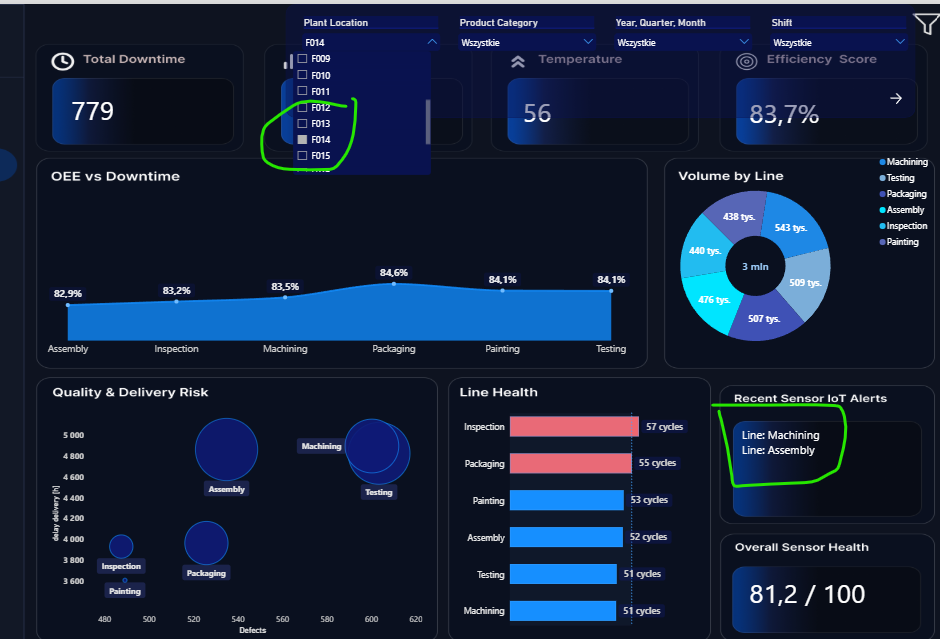

Layout of this report page (visuals, bound fields, positions):
{"tool":"powerbi","page":{"name":"Devices Overview","canvas":[1920,1080],"ordinal":2},"visuals":[{"type":"cardVisual","fields":{"Data":["MIARY.Avg_Vibration"]},"box":[810,127.5,297.5,102.5],"z":0},{"type":"cardVisual","fields":{"Data":["MIARY.Avg_OEE"]},"box":[1570,132.5,242.5,92.5],"z":1000},{"type":"cardVisual","fields":{"Data":["MIARY.Avg_Sensor_Health"]},"box":[1570,927.5,282.5,105],"z":2000},{"type":"areaChart","fields":{"Category":["Dim_Production_Lines.production_line"],"Y":["MIARY.Avg_OEE"],"Y2":["MIARY.Total_Downtime_Hours"]},"box":[358,256,1090,352],"z":3000},{"type":"clusteredBarChart","fields":{"Category":["Dim_Production_Lines.production_line"],"Y":["MIARY.Avg_RUL"]},"box":[1088,660,434,392],"z":4000},{"type":"scatterChart","fields":{"Series":["Dim_Production_Lines.production_line"],"Size":["Sum(Fact_IndustryRisk.machine_downtime_min)"],"X":["Sum(Fact_IndustryRisk.defect_rate_pct)"],"Y":["Sum(Fact_IndustryRisk.delivery_delay_hours)"]},"box":[412,662,638,408],"z":5000},{"type":"donutChart","fields":{"Category":["Fact_IndustryRisk.production_line"],"Y":["Sum(Fact_IndustryRisk.production_output)"]},"box":[1380,237.5,522.5,405],"z":6000},{"type":"actionButton","box":[1852,0,68,60],"z":7000},{"type":"cardVisual","fields":{"Data":["MIARY.Sensor_Alert_Message"]},"box":[1557.5,687.5,295,182.5],"z":8000},{"type":"cardVisual","fields":{"Data":["MIARY.Total_Downtime_Hours"]},"box":[440,112.5,307.5,125],"z":9000},{"type":"cardVisual","fields":{"Data":["MIARY.Avg_Temp"]},"box":[1192.5,125,237.5,105],"z":11000},{"type":"actionButton","box":[32.5,137.5,242.5,92.5],"z":16001}]}

Visuals, with their boxes on the page's 1920x1080 design canvas (x1, y1, x2, y2). These are canvas units, not pixel positions in the 940x639 screenshot, which may show the page scaled, cropped or inside an application window:
cardVisual - MIARY.Avg_Vibration: [810, 128, 1108, 230]
cardVisual - MIARY.Avg_OEE: [1570, 132, 1812, 225]
cardVisual - MIARY.Avg_Sensor_Health: [1570, 928, 1852, 1032]
areaChart - Dim_Production_Lines.production_line x MIARY.Avg_OEE: [358, 256, 1448, 608]
clusteredBarChart - Dim_Production_Lines.production_line x MIARY.Avg_RUL: [1088, 660, 1522, 1052]
scatterChart - Dim_Production_Lines.production_line x Sum(Fact_IndustryRisk.machine_downtime_min): [412, 662, 1050, 1070]
donutChart - Fact_IndustryRisk.production_line x Sum(Fact_IndustryRisk.production_output): [1380, 238, 1902, 642]
actionButton: [1852, 0, 1920, 60]
cardVisual - MIARY.Sensor_Alert_Message: [1558, 688, 1852, 870]
cardVisual - MIARY.Total_Downtime_Hours: [440, 112, 748, 238]
cardVisual - MIARY.Avg_Temp: [1192, 125, 1430, 230]
actionButton: [32, 138, 275, 230]
